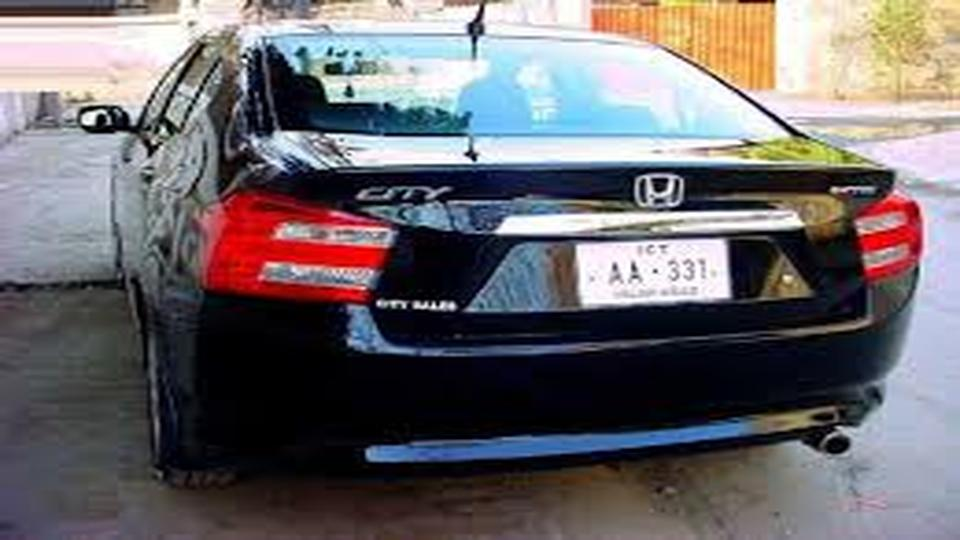NumberPlate: (557, 231, 742, 311)
